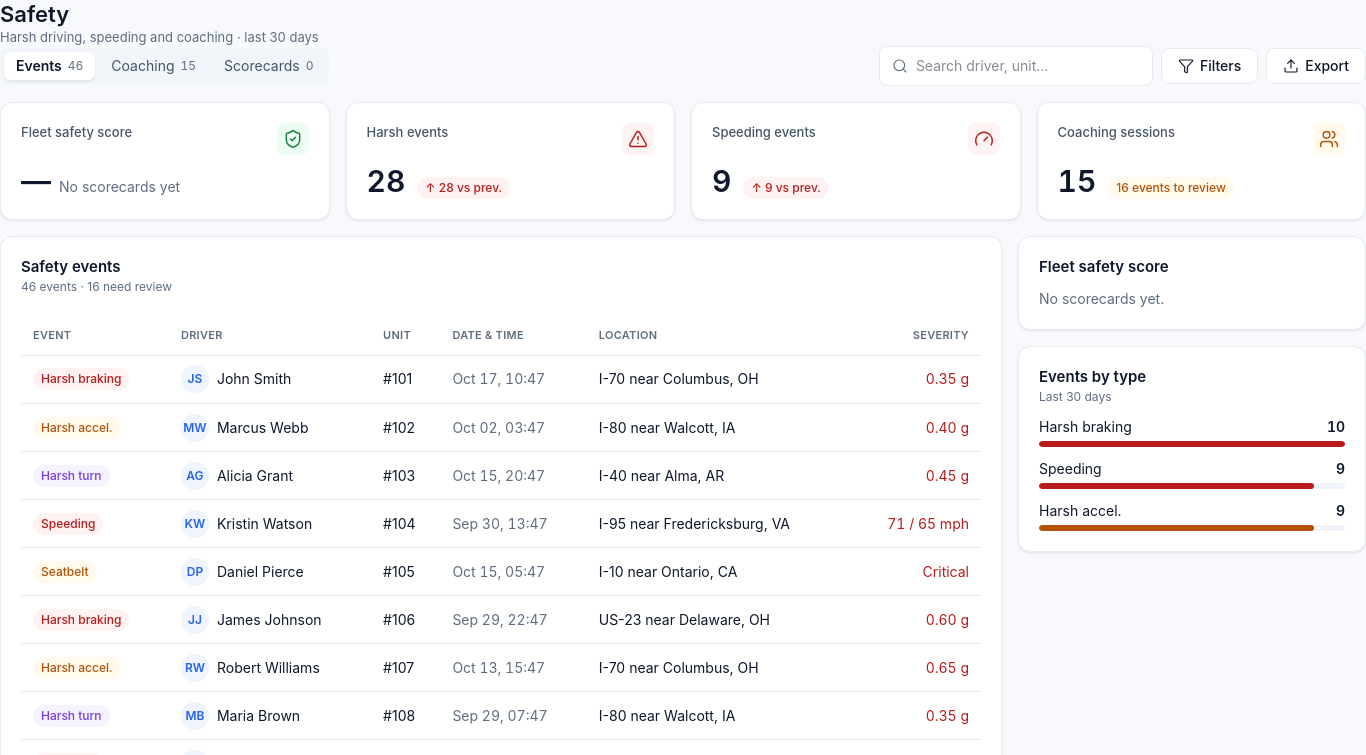
Test: SafetyPage › tabs › shows the scorecard empty state on the Scorecards tab
This screenshot has width=1366, height=755.
Click the tab "Scorecards 0": [269, 66] box [212,52,326,80]
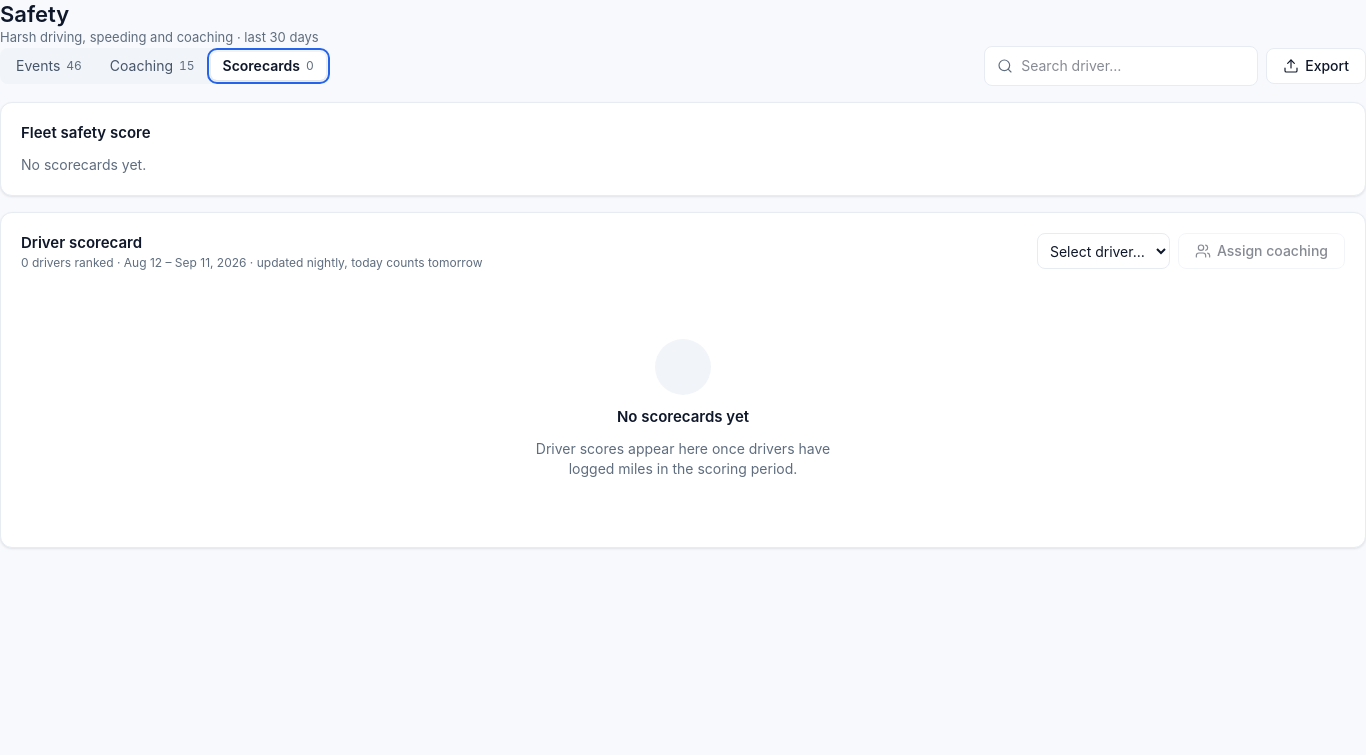
Check: the heading "No scorecards yet" is shown, box [617,407,749,427]
Check: the text "Harsh events" is gone
